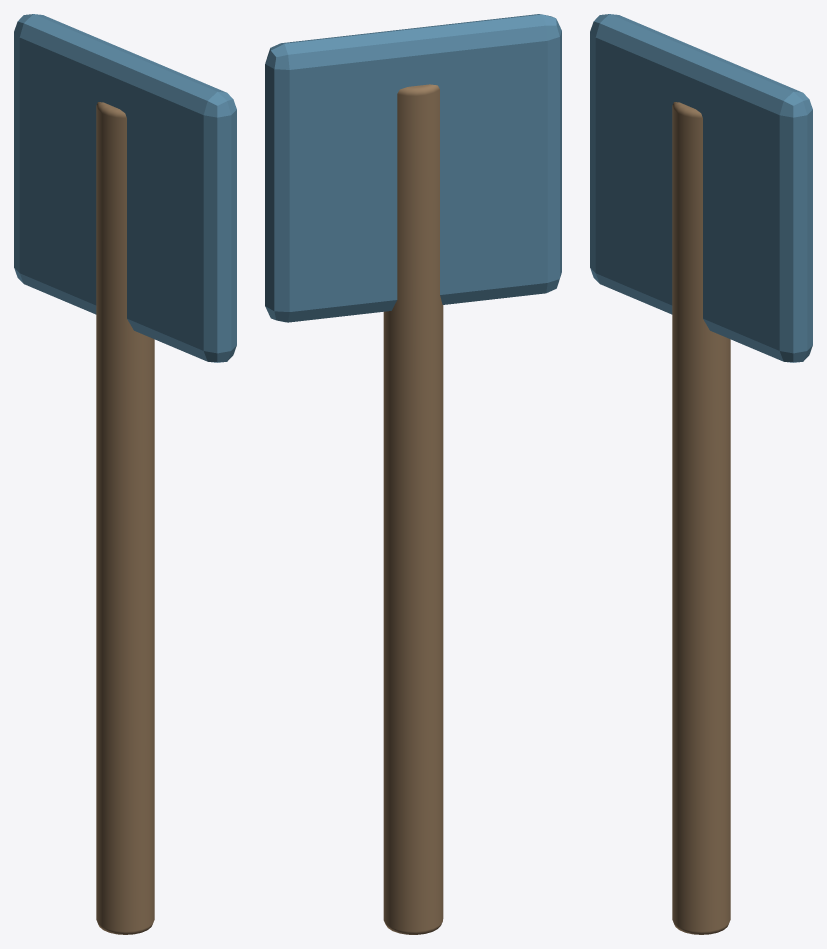
The picture shows the model from 3 angles, left to right: view 1: azimuth 90°, elevation 25°; view 2: azimuth 150°, elevation 25°; view 3: azimuth 270°, elevation 25°; orthographic projection. The views are drawn at different scales.
Visible parts, largest first — view 1: LOD1_SIGN_PED_CROSSING_Plate, LOD1_SIGN_PED_CROSSING_Pole; view 2: LOD1_SIGN_PED_CROSSING_Plate, LOD1_SIGN_PED_CROSSING_Pole; view 3: LOD1_SIGN_PED_CROSSING_Plate, LOD1_SIGN_PED_CROSSING_Pole.
Boxes of the visible parts, x1,y1,x2,y2 form: LOD1_SIGN_PED_CROSSING_Plate: (14,14,236,362); LOD1_SIGN_PED_CROSSING_Pole: (96,102,154,934); LOD1_SIGN_PED_CROSSING_Plate: (265,14,561,322); LOD1_SIGN_PED_CROSSING_Pole: (383,84,443,934); LOD1_SIGN_PED_CROSSING_Plate: (590,14,812,362); LOD1_SIGN_PED_CROSSING_Pole: (672,102,730,934).
Size of what is drawn, in the model's own units: 0.6857 by 2.96 by 0.6857.
